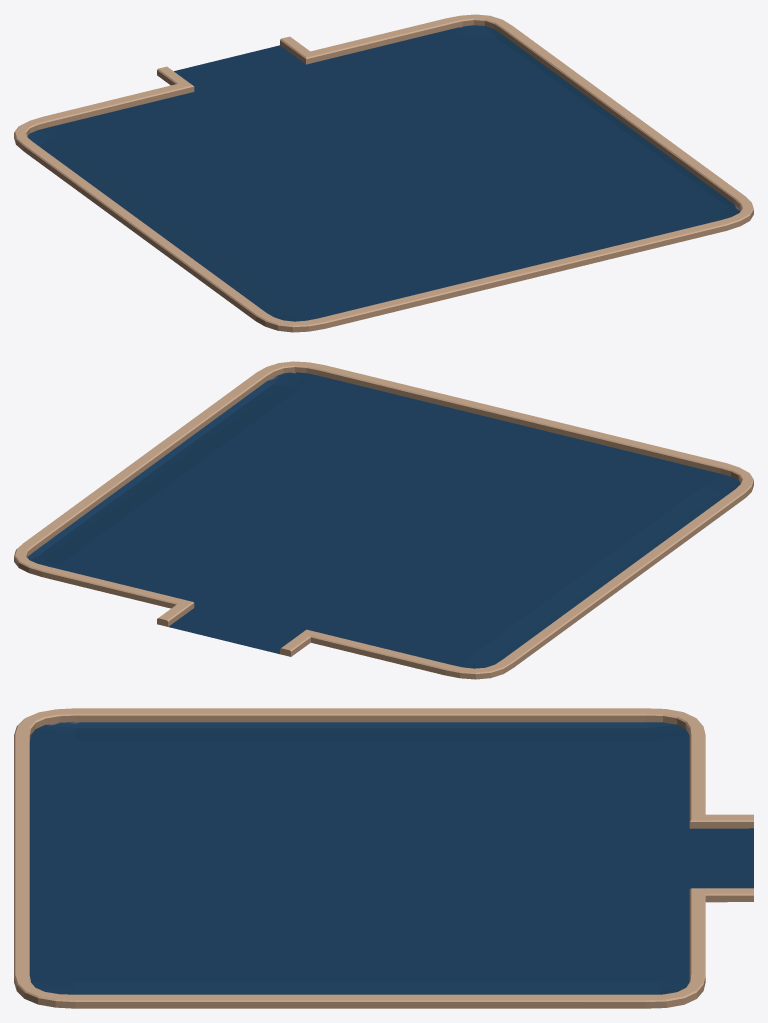
Rendered from PokemonMonster_Landing_RoadStage.fbx.
3 views of the same model, one above another, from view 1: azimuth 30°, elevation 25°; view 2: azimuth 150°, elevation 25°; view 3: azimuth 270°, elevation 25° (orthographic). The views are drawn at different scales.
Visible parts, largest first — view 1: Road_stage_large; view 2: Road_stage_large; view 3: Road_stage_large.
Boxes of the visible parts, bbox=[...] form: Road_stage_large: bbox=[14, 14, 753, 332]; Road_stage_large: bbox=[14, 361, 753, 679]; Road_stage_large: bbox=[14, 708, 753, 1008].
Size of the model in its own units: 2191 by 37.08 by 2337.
Materials: 1 (1 with a texture image).
